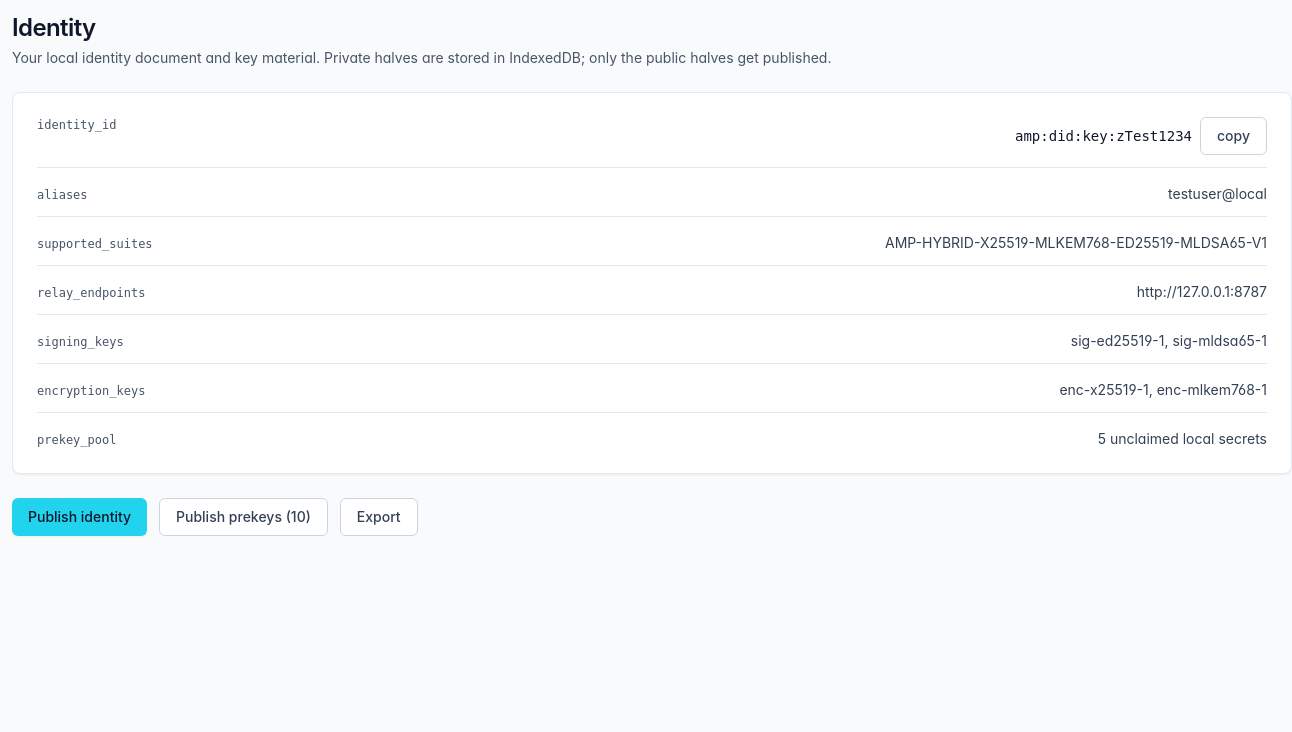
Test case: Identity page › publishes identity to relay on button click
This screenshot has width=1292, height=732.
Click the button "Publish identity": [80, 517] box top-left (12, 498), bottom-right (147, 536)
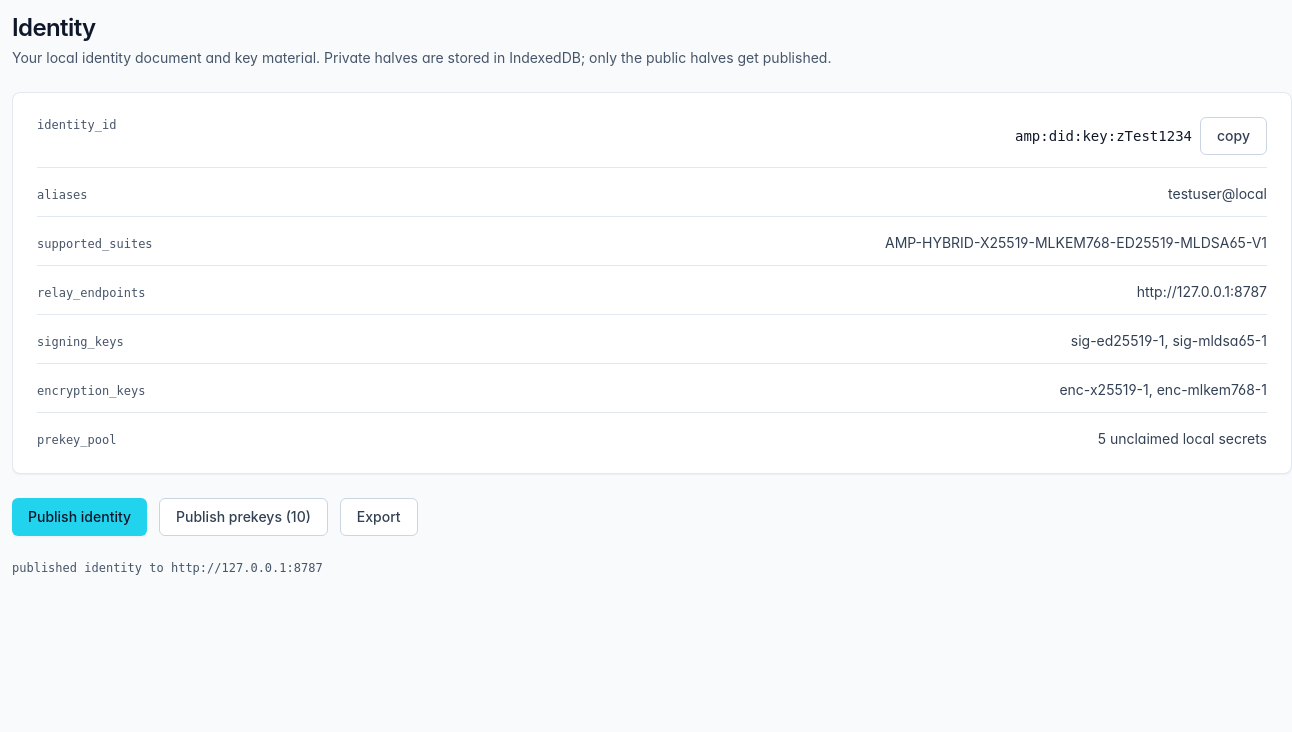
Now the text "published identity to http://127.0.0.1:8787" is shown, box top-left (12, 561), bottom-right (323, 575)
